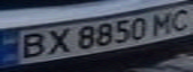0: (127, 15, 154, 40)
5: (112, 17, 136, 44)
8: (75, 22, 100, 51), (93, 20, 118, 48)
B: (12, 29, 51, 61)
C: (163, 6, 193, 31)
M: (145, 9, 178, 37)
X: (39, 26, 75, 56)
